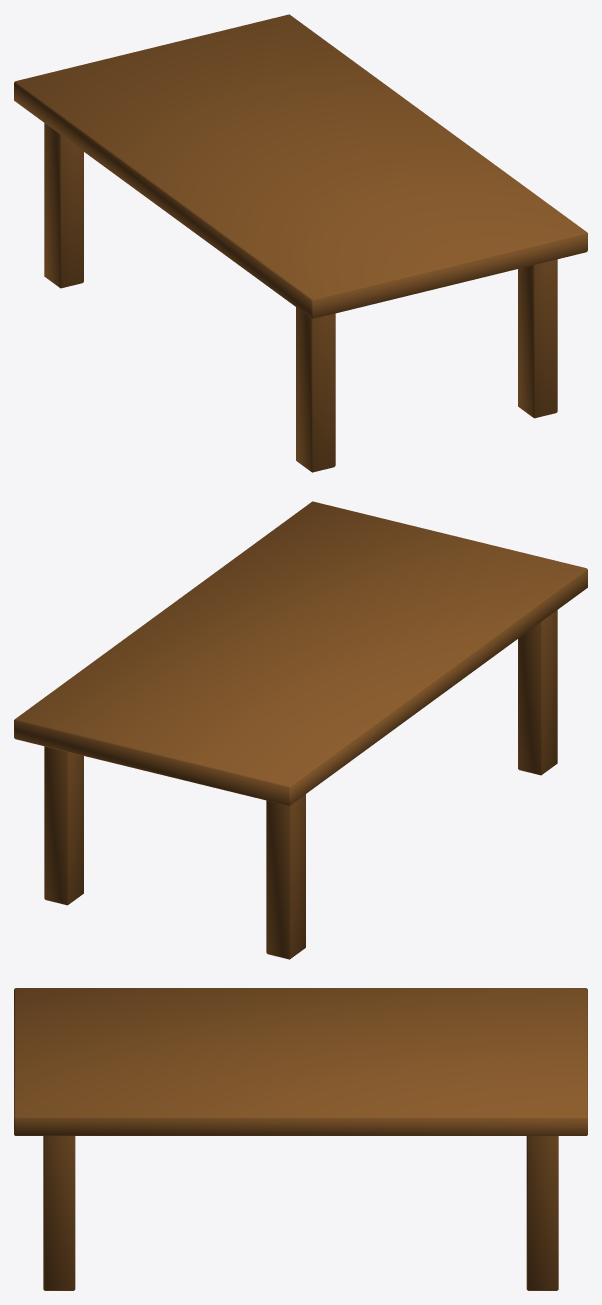
The model's file is Table.fbx.
3 renders of one model, top to bottom at view 1: azimuth 30°, elevation 25°; view 2: azimuth 150°, elevation 25°; view 3: azimuth 270°, elevation 25°, orthographic. The views are drawn at different scales.
Visible parts, largest first — view 1: table.001; view 2: table.001; view 3: table.001.
Part boxes in pixels (x1,y1,x2,y2): table.001: (14, 14, 587, 472); table.001: (14, 501, 587, 959); table.001: (14, 988, 587, 1290).
Size of the model in its own units: 107 by 69.95 by 201.
